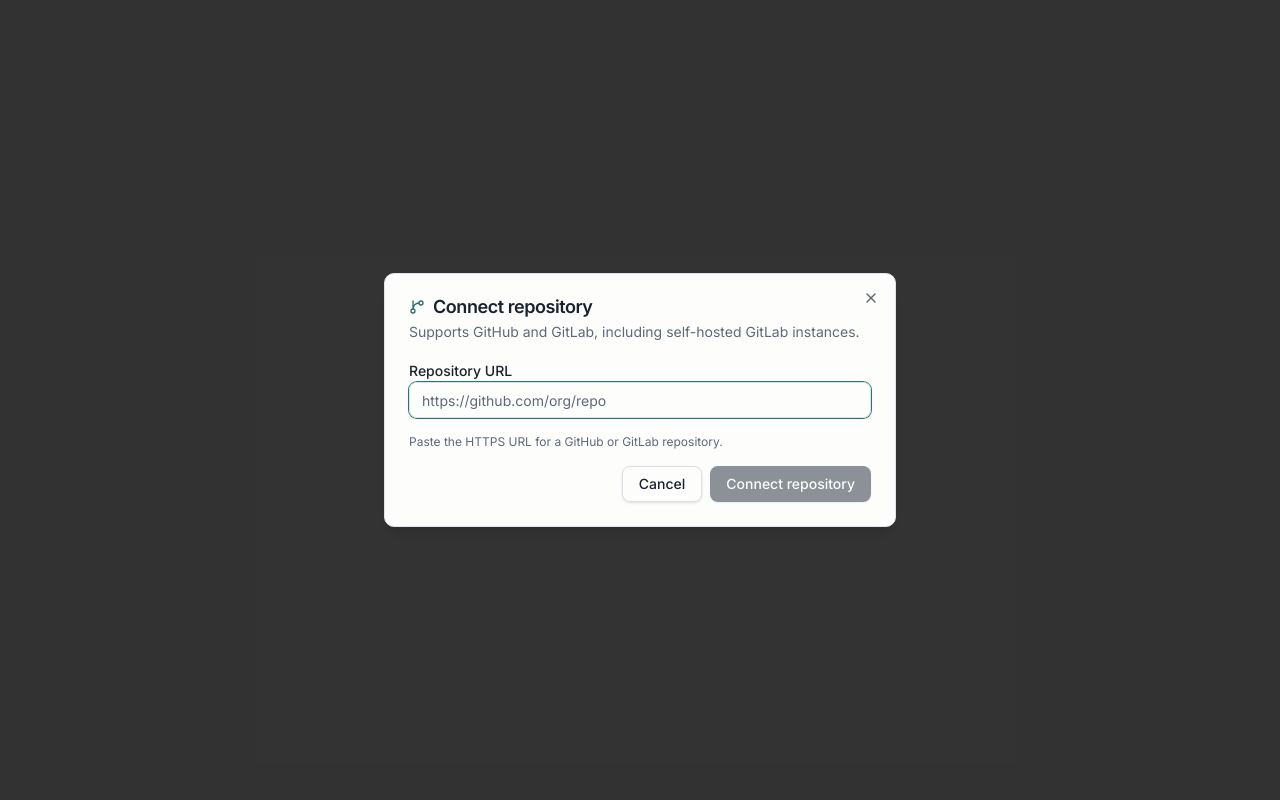
Test: ConnectRepositoryDialog › shows access denied after a rejected token
In the field labelled "Repository URL": [640, 400] box [409, 382, 871, 418], type "https://github.com/acme/private-api"
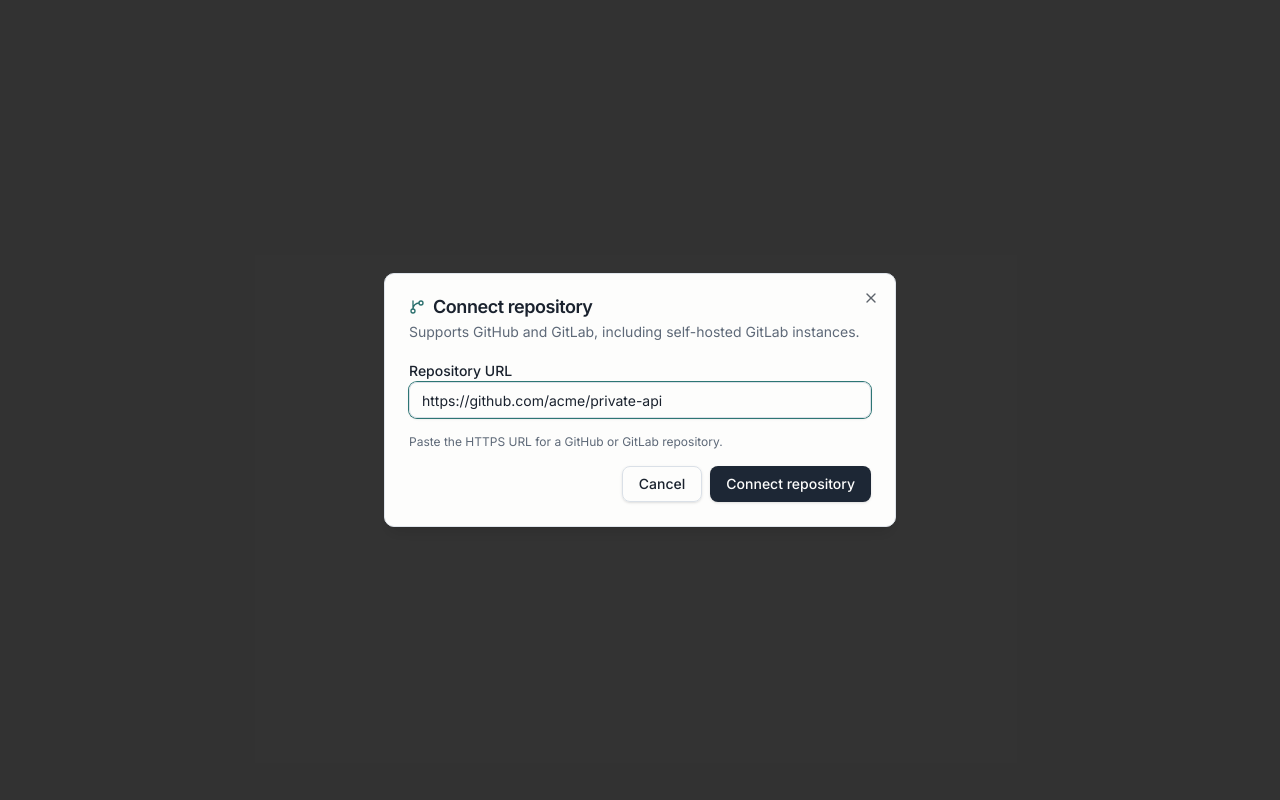
Click the button "Connect repository": [791, 484] box [710, 466, 871, 502]
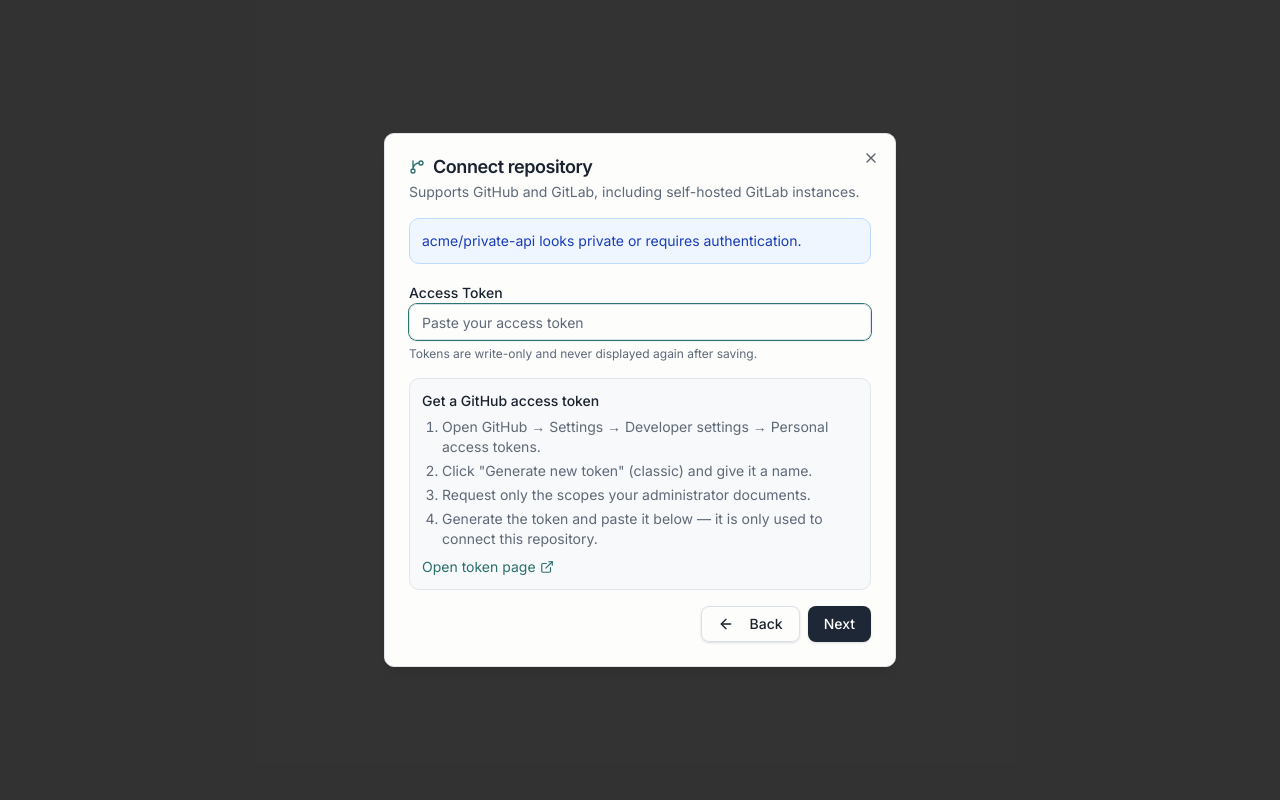
Now the text "acme/private-api looks private or requires authentication." is shown, box [409, 218, 871, 264]
In the password field labelled "Access Token": [640, 322] box [409, 304, 871, 340], type "ab"
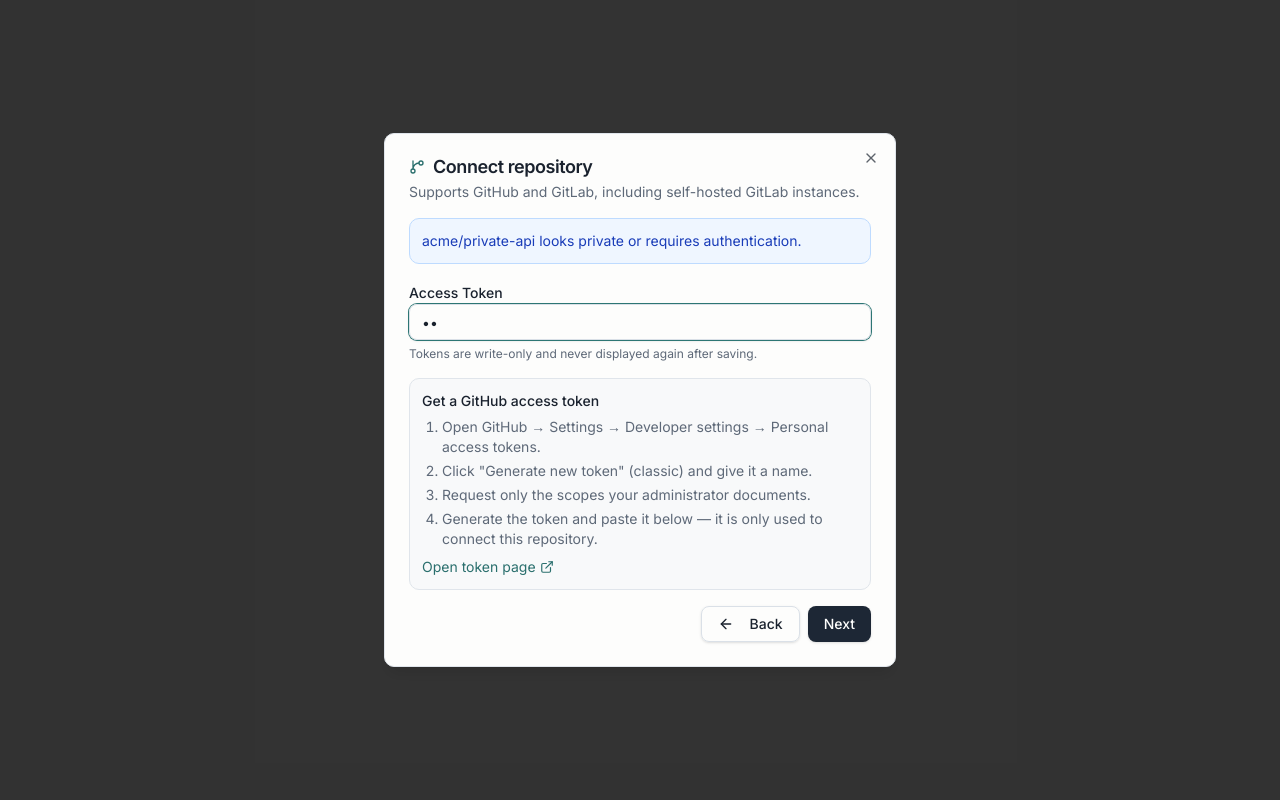
Click the button "Next": [839, 624] box [808, 606, 871, 642]
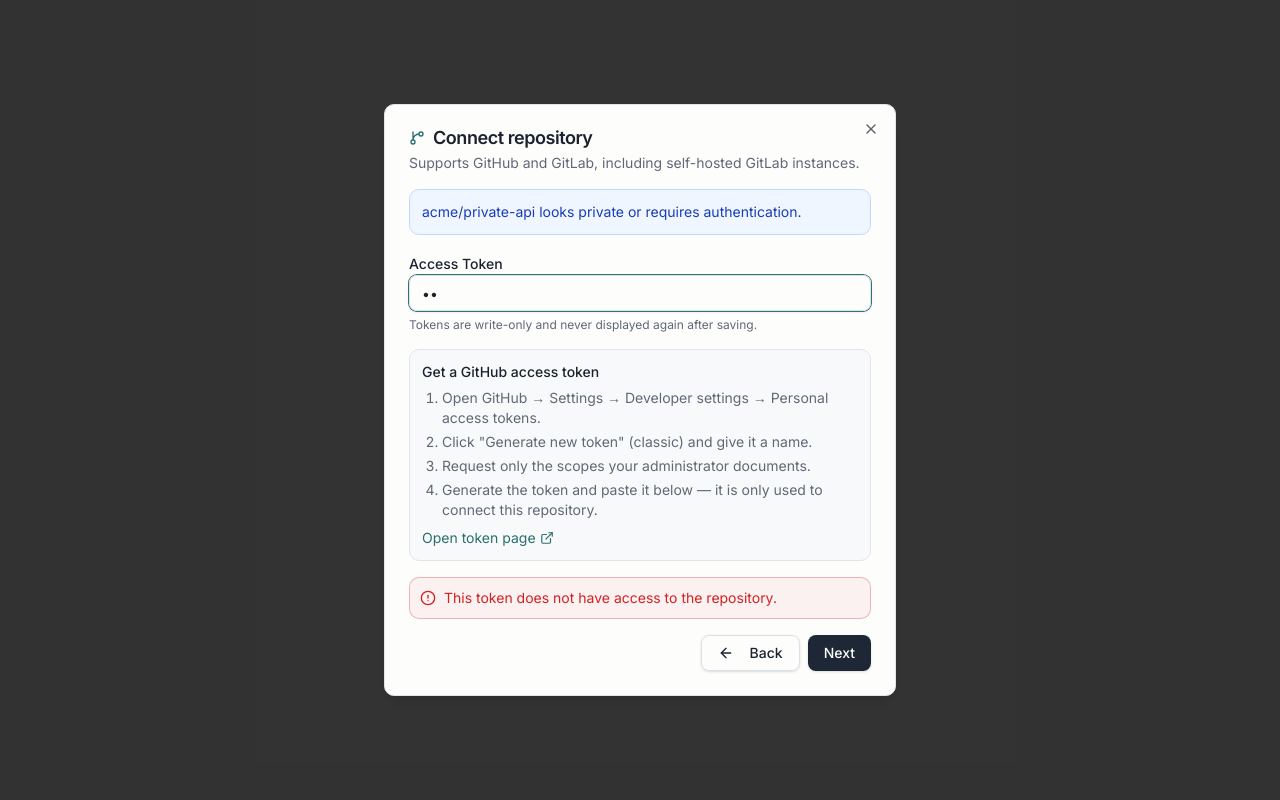
Now the text "This token does not have access to the repository." is shown, box [444, 588, 777, 608]
